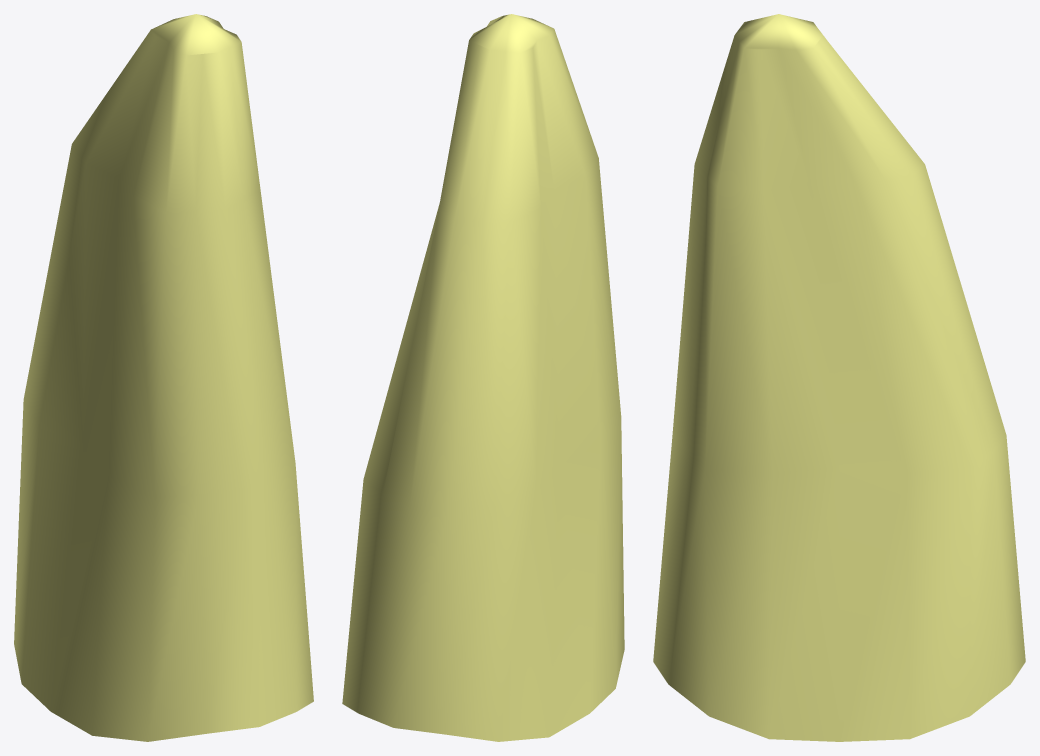
File: D15R_Raiz.obj
3 views of the same model, side by side, from view 1: azimuth 30°, elevation 25°; view 2: azimuth 150°, elevation 25°; view 3: azimuth 270°, elevation 25° (orthographic). The views are drawn at different scales.
Parts seen in each view (by area): view 1: D15R_Raiz; view 2: D15R_Raiz; view 3: D15R_Raiz.
Boxes of the visible parts, x1,y1,x2,y2 form: D15R_Raiz: [14, 14, 313, 741]; D15R_Raiz: [342, 14, 624, 741]; D15R_Raiz: [653, 14, 1025, 741].
Size of the model in its own units: 5 by 14.64 by 7.32.
